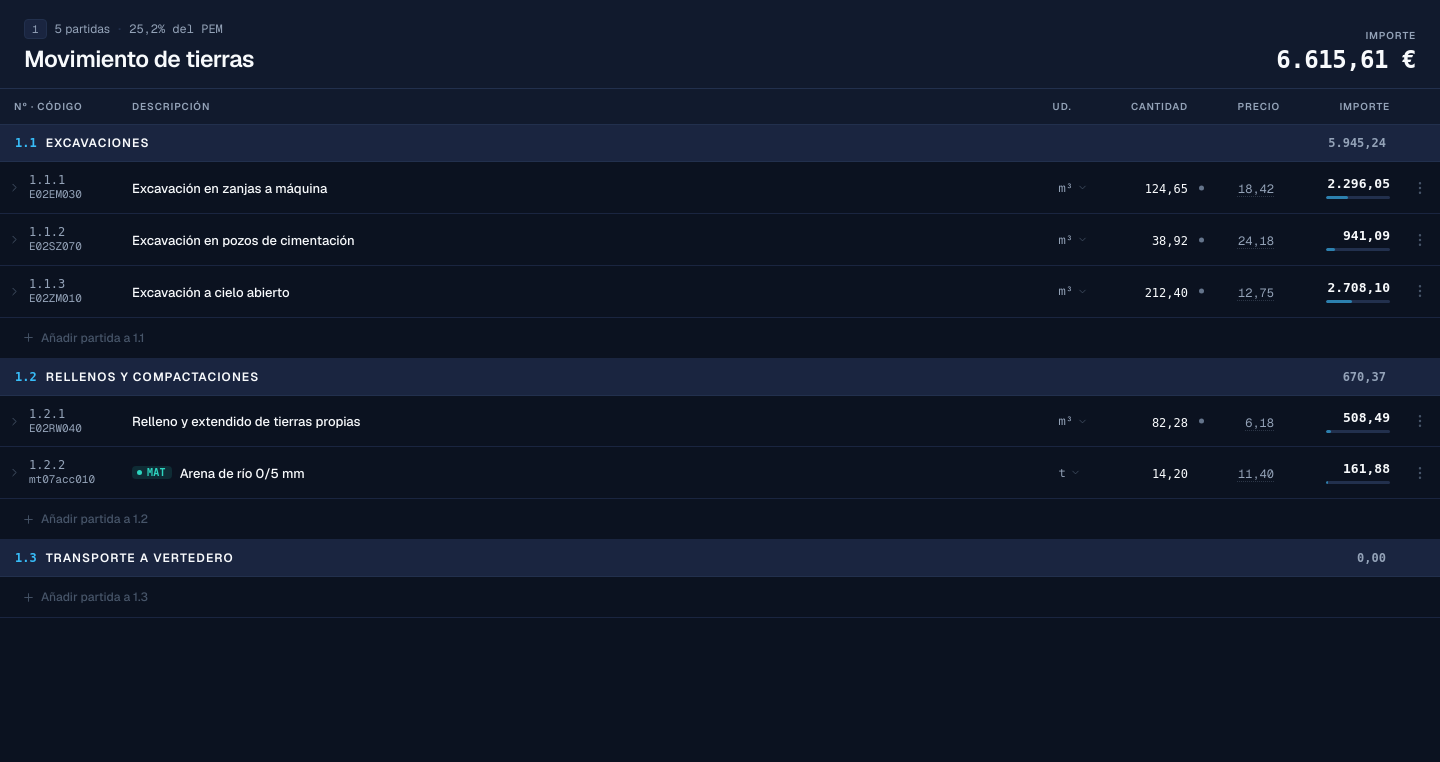
Test: justificación: copy-on-write de recurso compartido › "Editar en todas" aplica el cambio al banco compartido
Step 1. Click the text "E02EM030" → (55, 195), box x1=29 y1=188 x2=82 y2=202
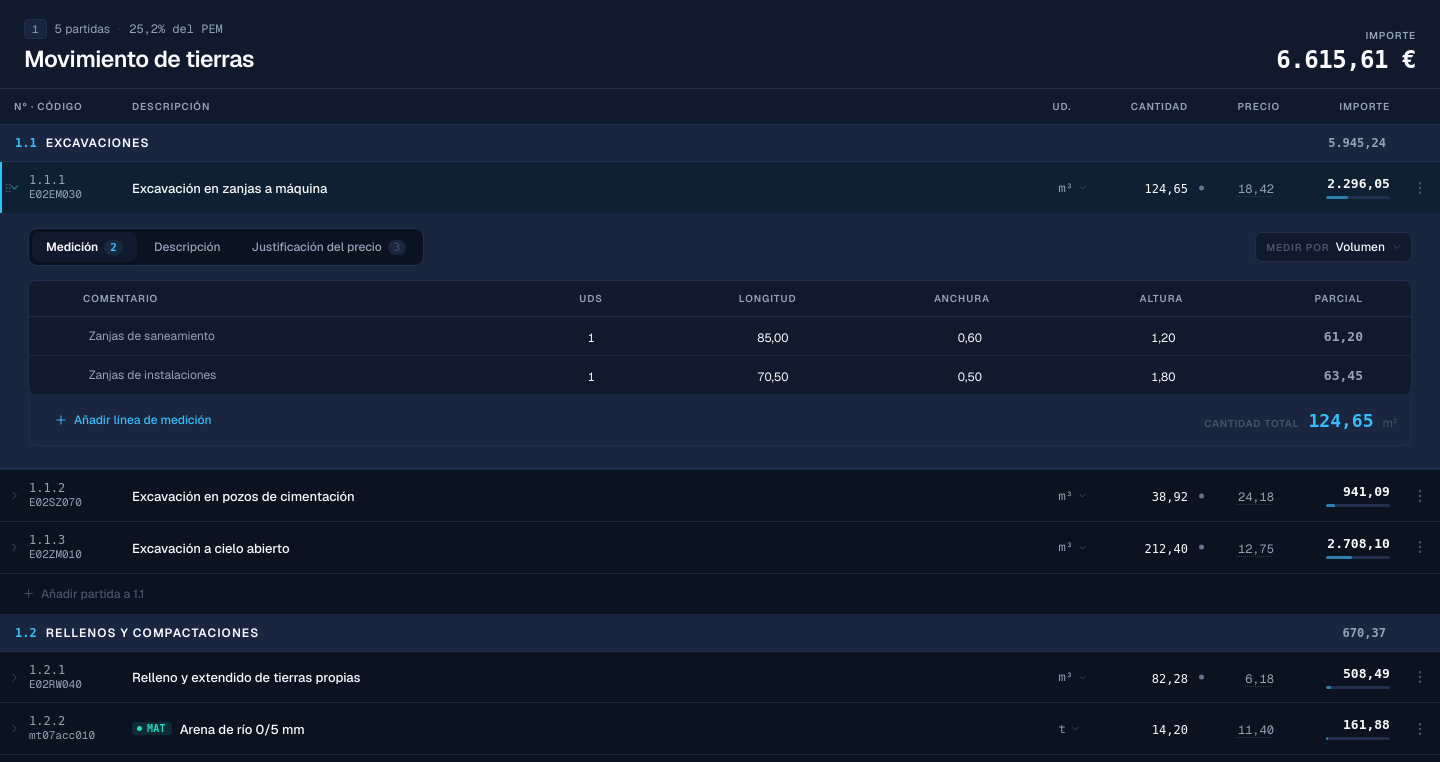
Step 2. Click the button "Justificación del precio 3" → (329, 247), box x1=238 y1=232 x2=420 y2=262
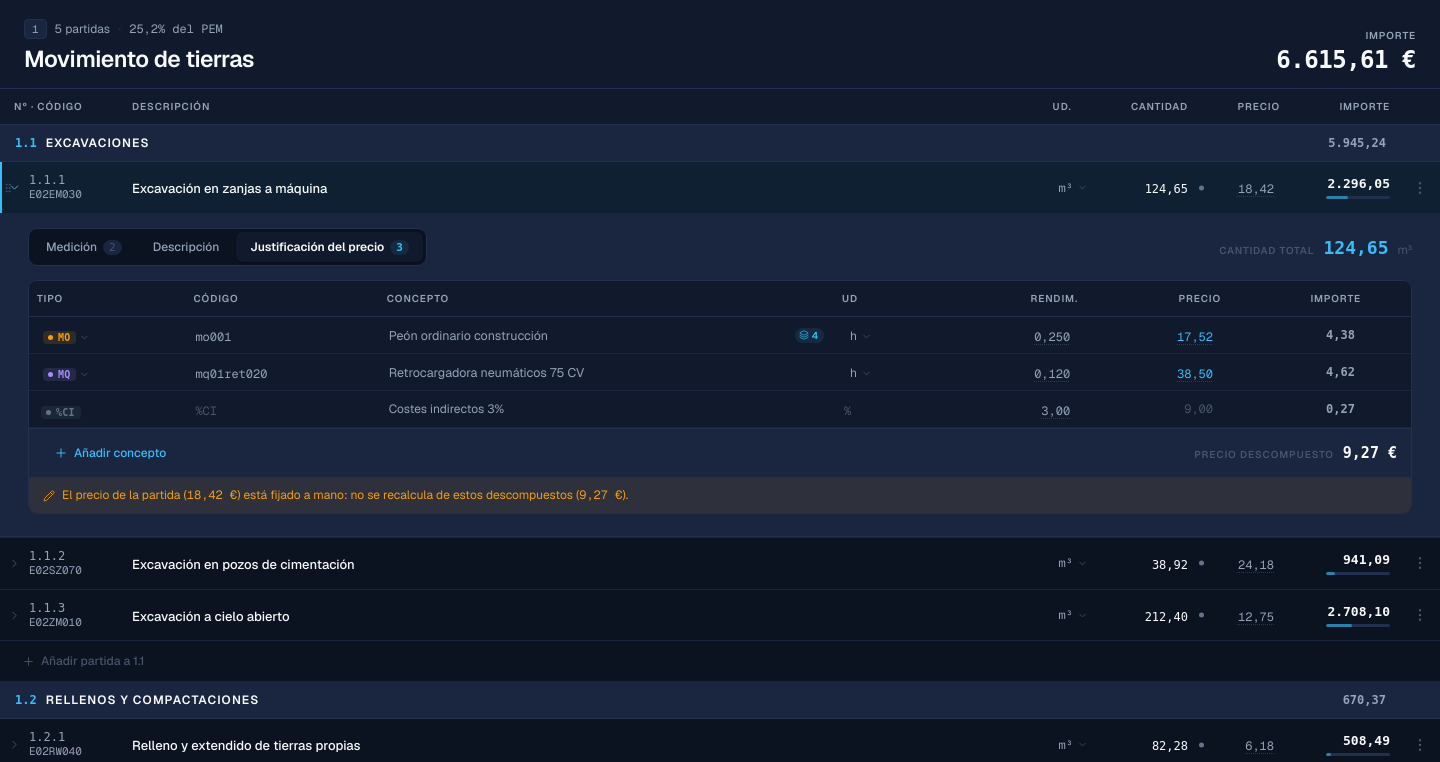
Step 3. Click the button with aria-label "Tipo de recurso" → (67, 338), box x1=41 y1=329 x2=94 y2=346
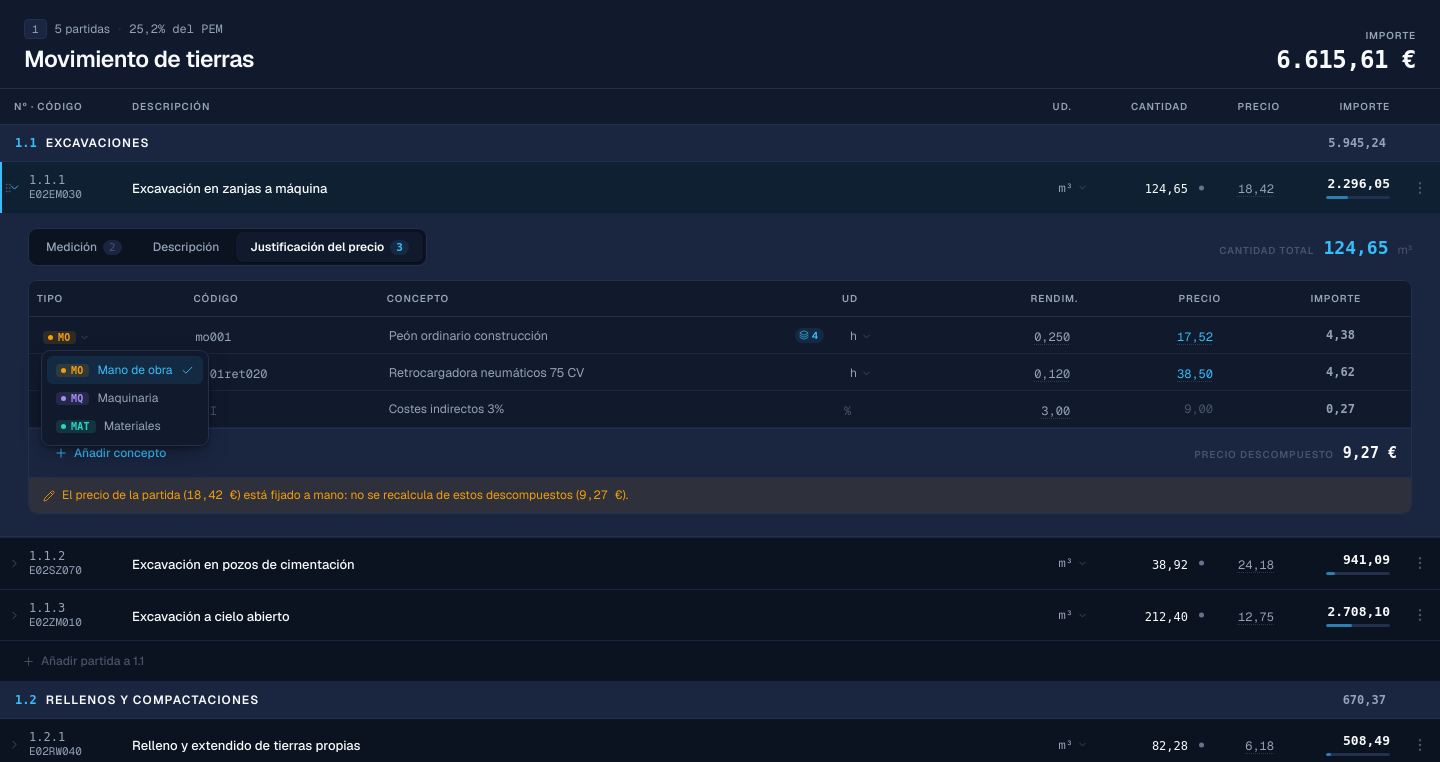
Step 4. Click the option "MAT Materiales" → (125, 426), box x1=47 y1=412 x2=203 y2=440
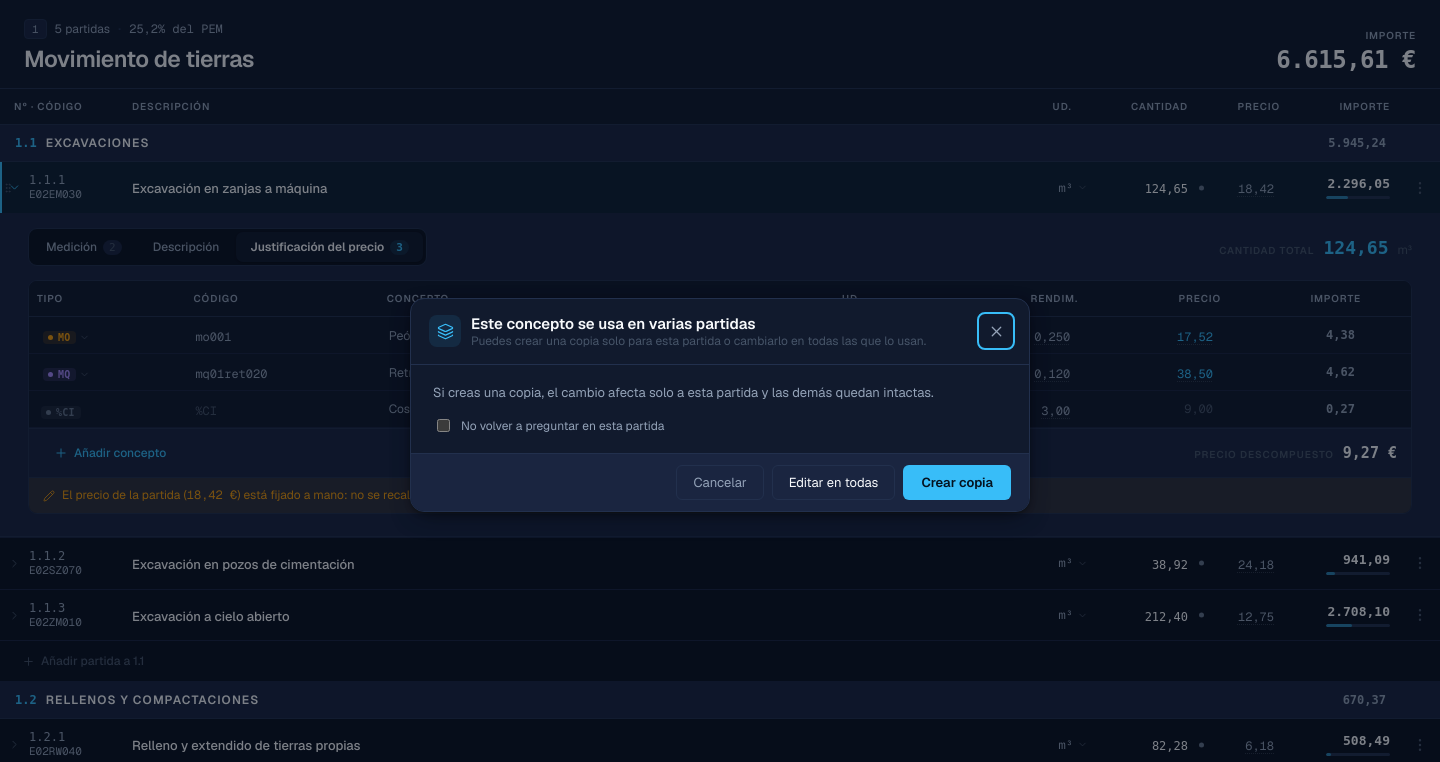
Step 5. Click the button "Editar en todas" → (834, 483), box x1=772 y1=465 x2=895 y2=500
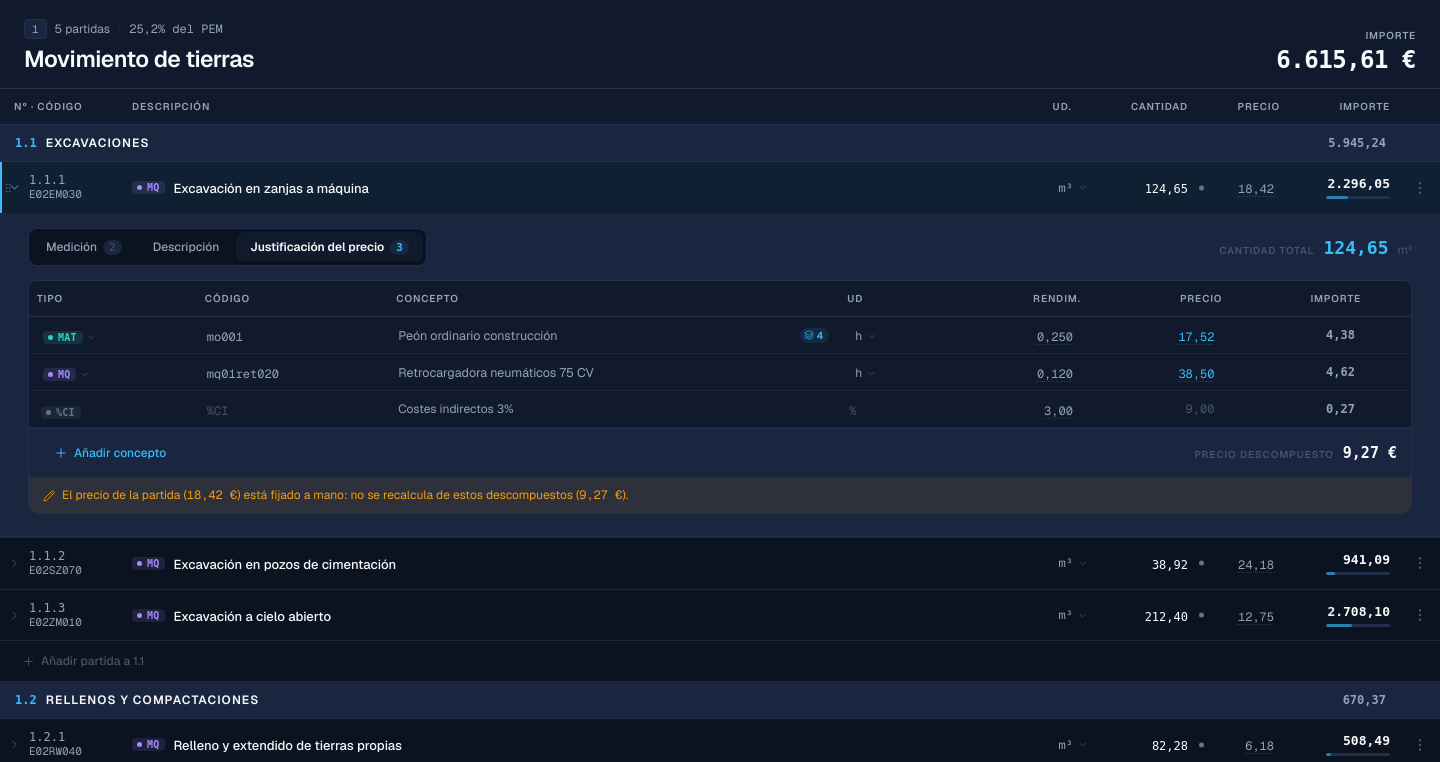
Result: the field labelled "mo001" is shown at x1=207 y1=329 x2=243 y2=345
Result: the element showing "MAT" is shown at x1=43 y1=331 x2=83 y2=344
